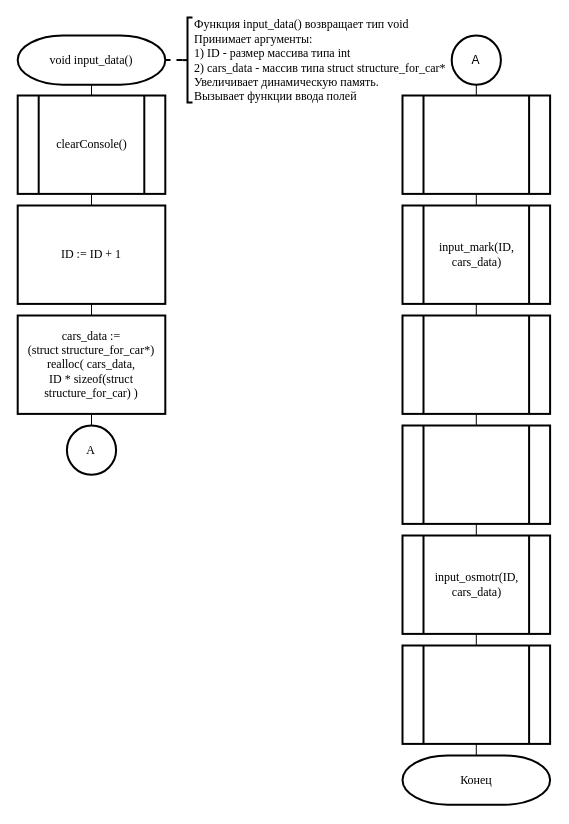
The diagram is 569 pixels wide and 824 high, and some of its shapes have lost their labels. The shapes that lost their labels are listed below. From the top down, each one's centre as x and y in pixels, then its label:
At (x=476, y=144): "input_number(ID, cars_data)".
At (x=476, y=364): "input_surname(ID, cars_data)".
At (x=476, y=474): "getch()".
At (x=476, y=694): "menu(ID, cars_data)".
